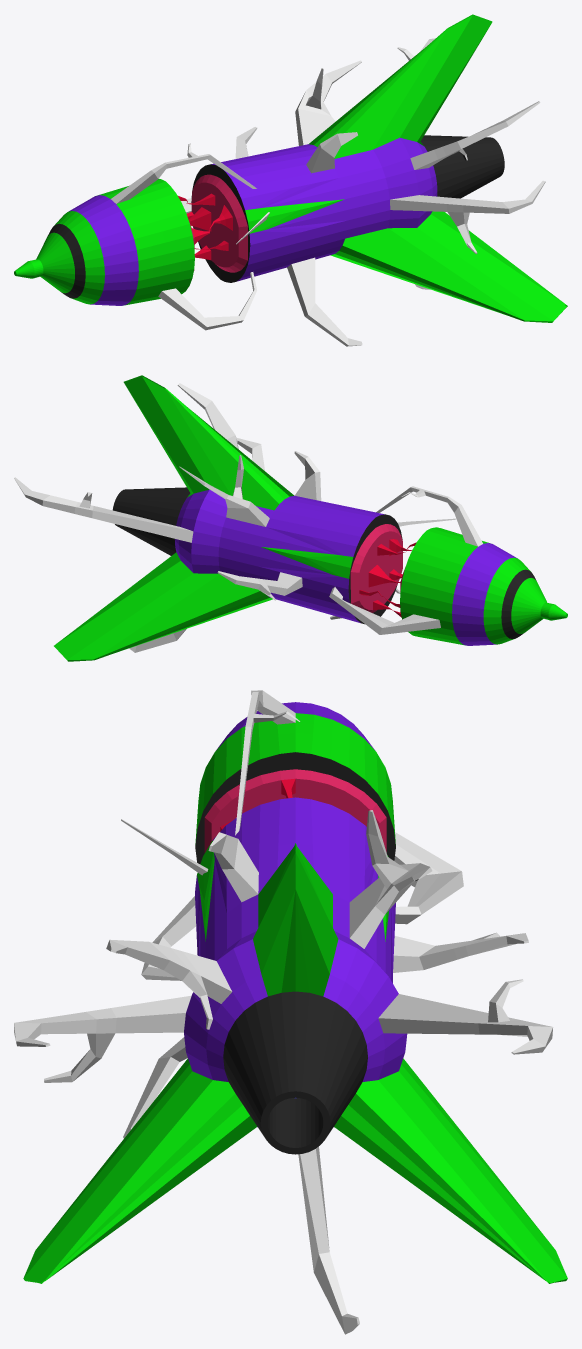
File: EnemyRocket.fbx
The picture shows the model from 3 angles, top to bottom: view 1: azimuth 30°, elevation 25°; view 2: azimuth 150°, elevation 25°; view 3: azimuth 270°, elevation 25°; orthographic projection. The views are drawn at different scales.
Parts seen in each view (by area): view 1: Cylinder.001; view 2: Cylinder.001; view 3: Cylinder.001.
Part boxes in pixels (x1,y1,x2,y2): Cylinder.001: (14,14,567,346); Cylinder.001: (14,375,567,661); Cylinder.001: (14,690,567,1334).
Size of the model in its own units: 1978 by 1014 by 1042.
